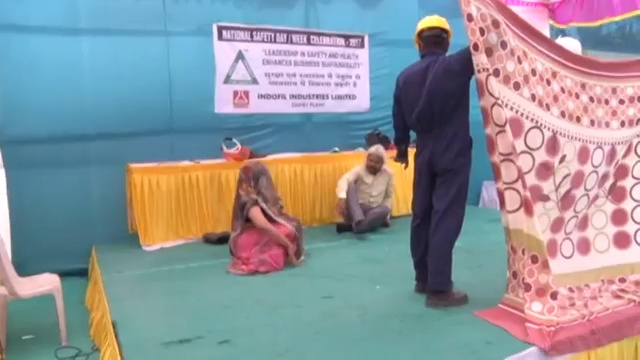helmet: (413, 13, 453, 41)
helmet_off: (239, 160, 270, 186), (365, 141, 386, 174)
helmet_on: (411, 12, 452, 59)
person: (391, 12, 478, 309), (229, 161, 302, 273), (330, 141, 395, 237)
